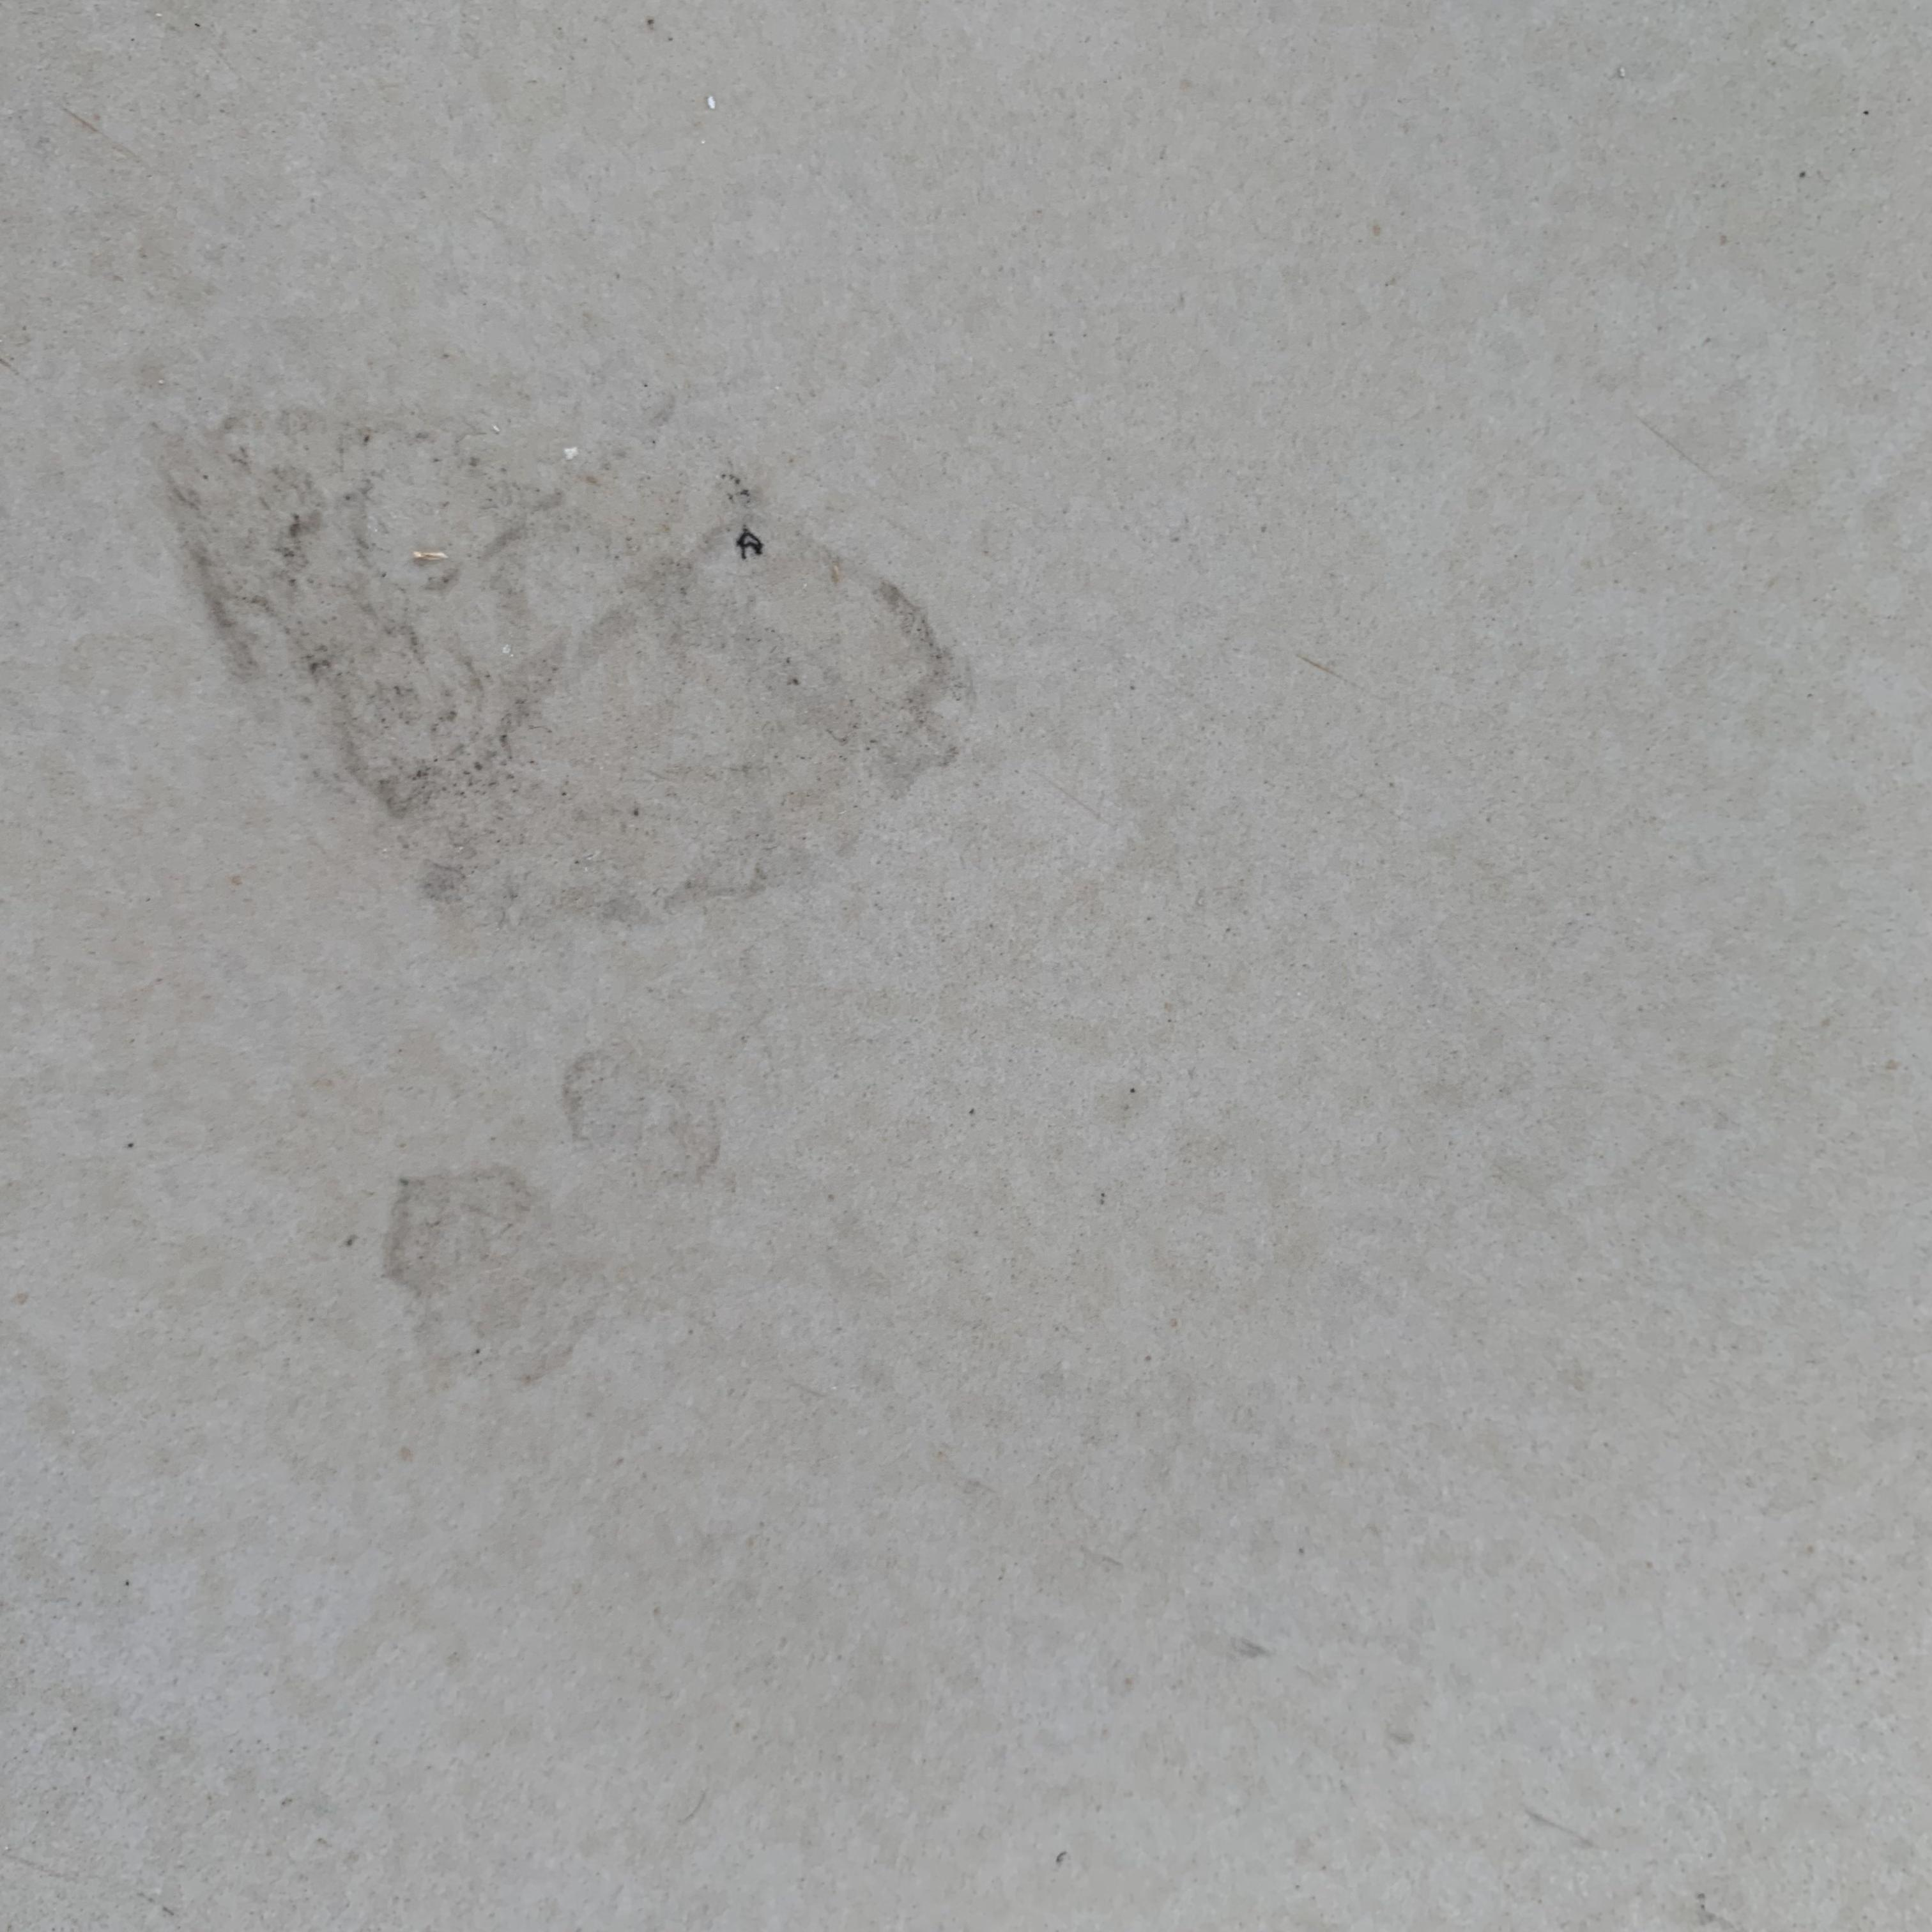grey spot: (168, 402, 978, 929), (375, 1168, 594, 1378), (563, 1044, 725, 1182)
